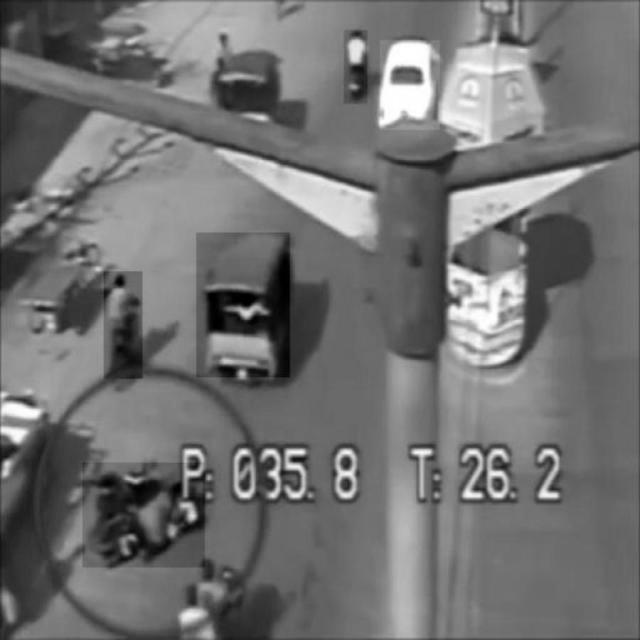vehicle: (197, 232, 290, 378), (82, 463, 204, 567), (380, 41, 441, 131), (104, 271, 142, 379), (344, 31, 368, 104)
